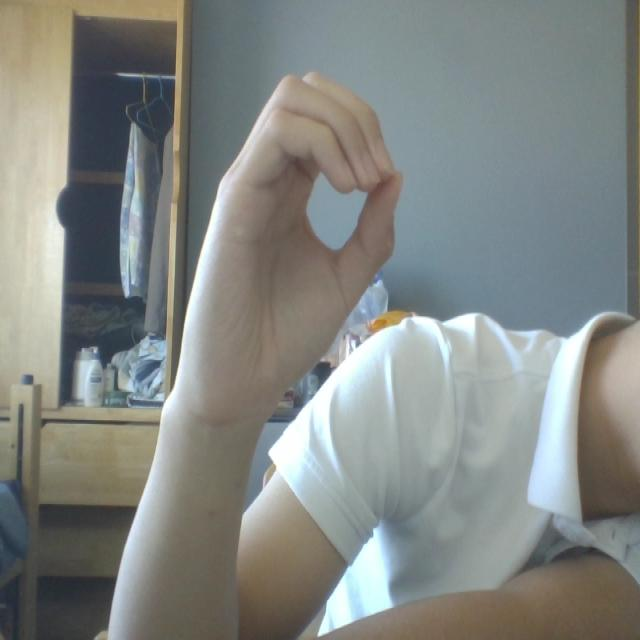O: (157, 48, 424, 408)
